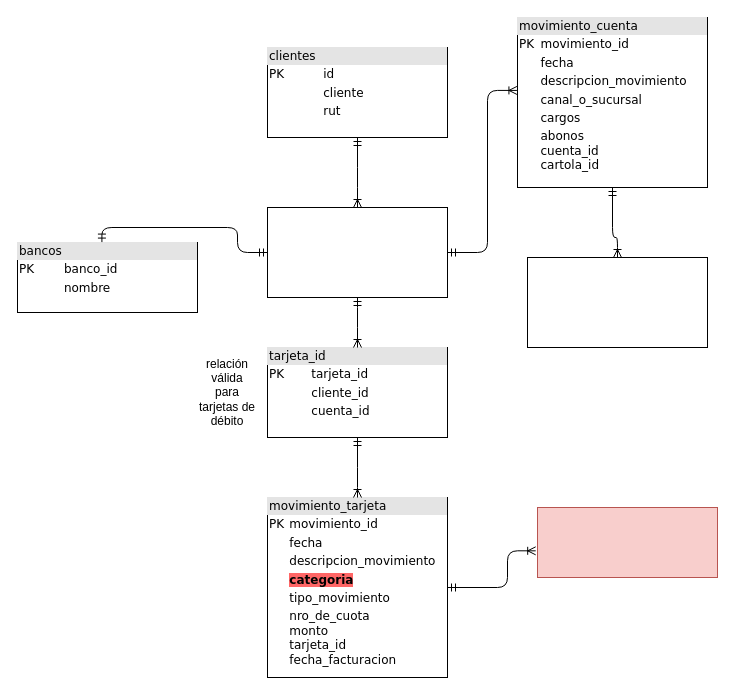
Image size: 735x695. Some labels were removed from this diagram. Here are the shapes that lost their labels. From the top down, the box of each, then its label:
(266, 206, 448, 298): cuentas PK id nro_cuenta cliente_id banco_id
(526, 256, 708, 348): cartolas PK cartola_id fecha_emision
(536, 506, 718, 578): categorias PK categoria_id nombre
